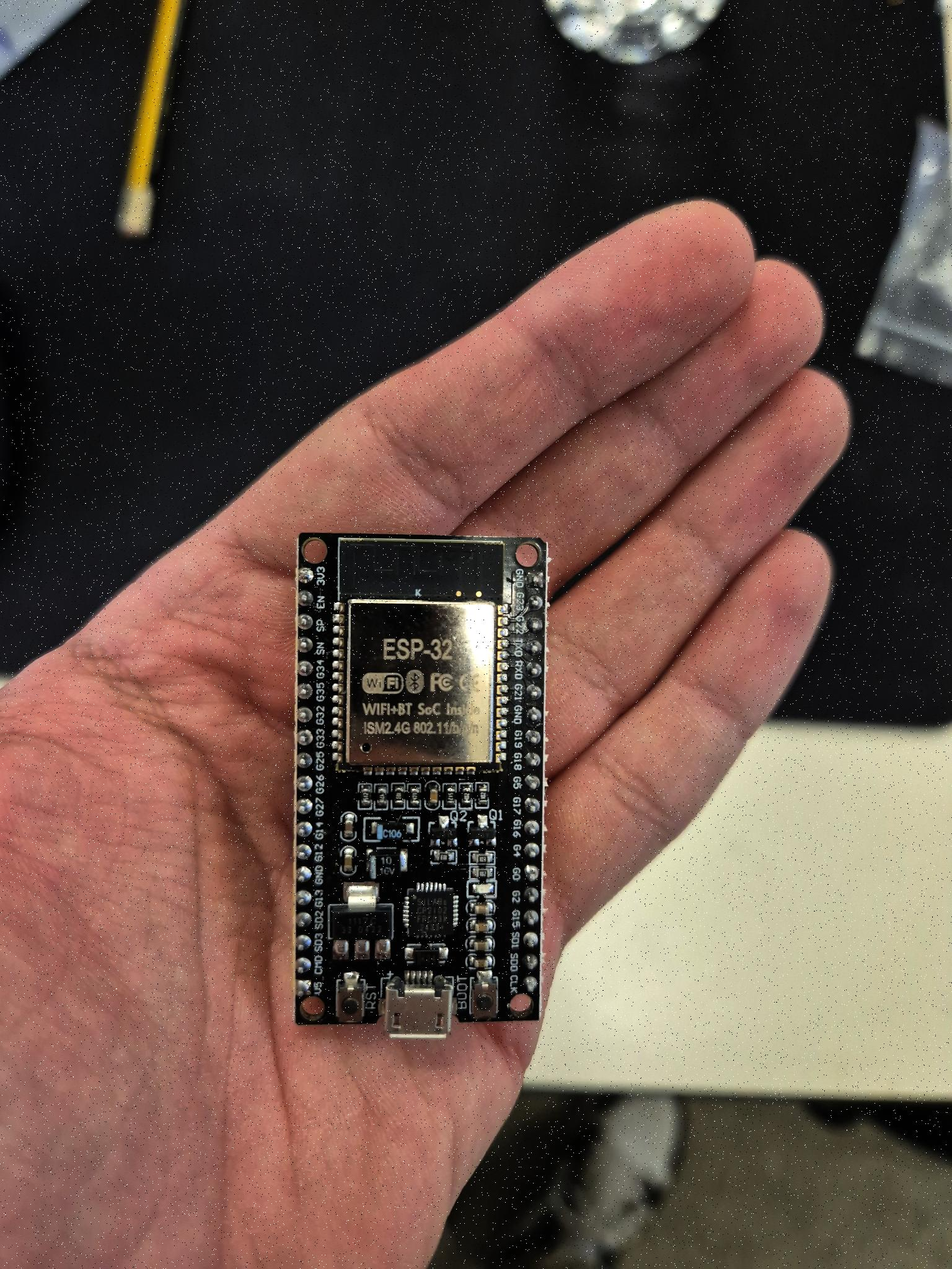esp32-dev: (295, 534, 547, 1038)
